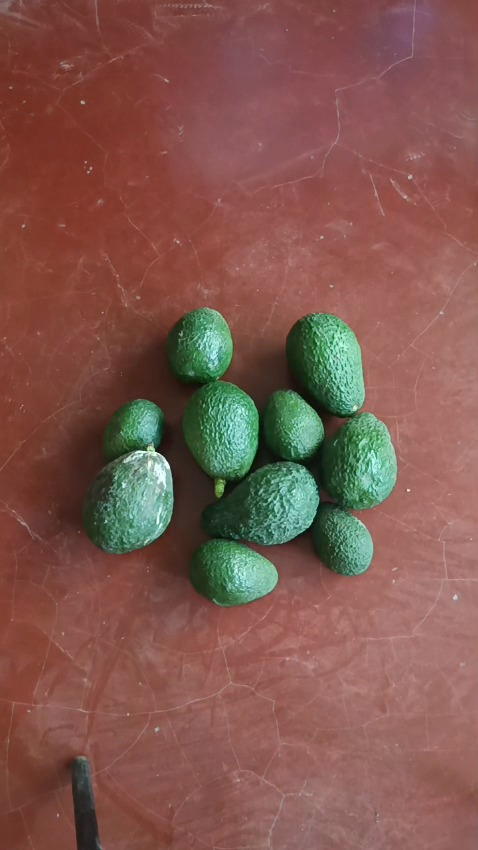Primera: (203, 462, 320, 545), (81, 449, 175, 552), (181, 380, 261, 482), (285, 312, 364, 414), (320, 412, 398, 509)
Segunda: (187, 539, 278, 605), (165, 307, 233, 383)
Tercera: (260, 389, 323, 462), (310, 502, 373, 575), (101, 399, 165, 462)
